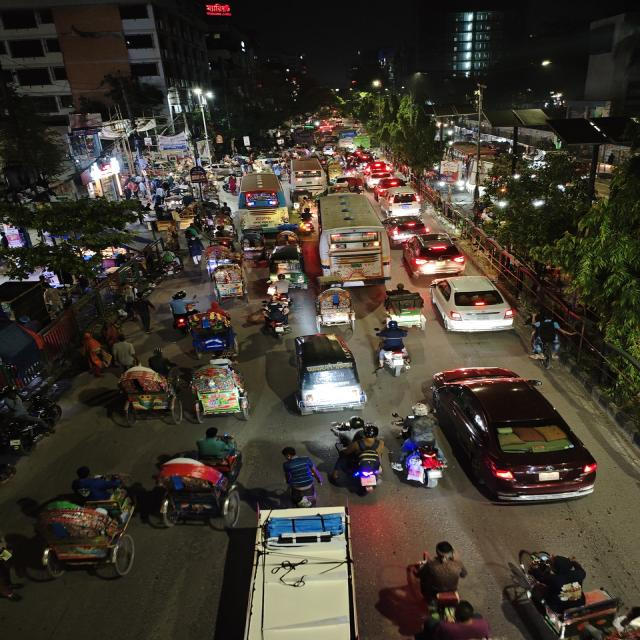bicycle: (529, 314, 568, 370)
bus: (312, 191, 392, 285), (236, 180, 292, 228), (287, 157, 325, 187), (335, 128, 357, 144)
car: (426, 363, 602, 508), (428, 274, 519, 336), (400, 232, 470, 276), (383, 190, 428, 216), (385, 214, 430, 238), (437, 188, 473, 206), (373, 175, 406, 190), (362, 160, 391, 175)
cng: (283, 332, 367, 418), (267, 246, 308, 288)
motorcycle: (506, 542, 632, 640), (328, 423, 387, 497), (393, 412, 448, 490), (0, 390, 67, 453), (371, 320, 415, 378), (257, 297, 294, 341), (264, 274, 295, 306), (296, 209, 316, 233)
pedestrian: (403, 538, 475, 622), (274, 443, 325, 508), (0, 532, 24, 605), (76, 329, 108, 378), (126, 292, 158, 334), (165, 292, 194, 332), (110, 335, 138, 369), (147, 346, 172, 379), (185, 238, 205, 266)
rickshaw: (21, 466, 140, 584), (504, 540, 639, 640), (153, 436, 248, 531), (185, 361, 259, 424), (112, 366, 182, 428), (313, 283, 360, 331), (186, 320, 241, 360), (380, 284, 427, 330), (211, 262, 250, 306), (203, 243, 233, 271), (238, 232, 266, 260), (327, 161, 344, 179)
